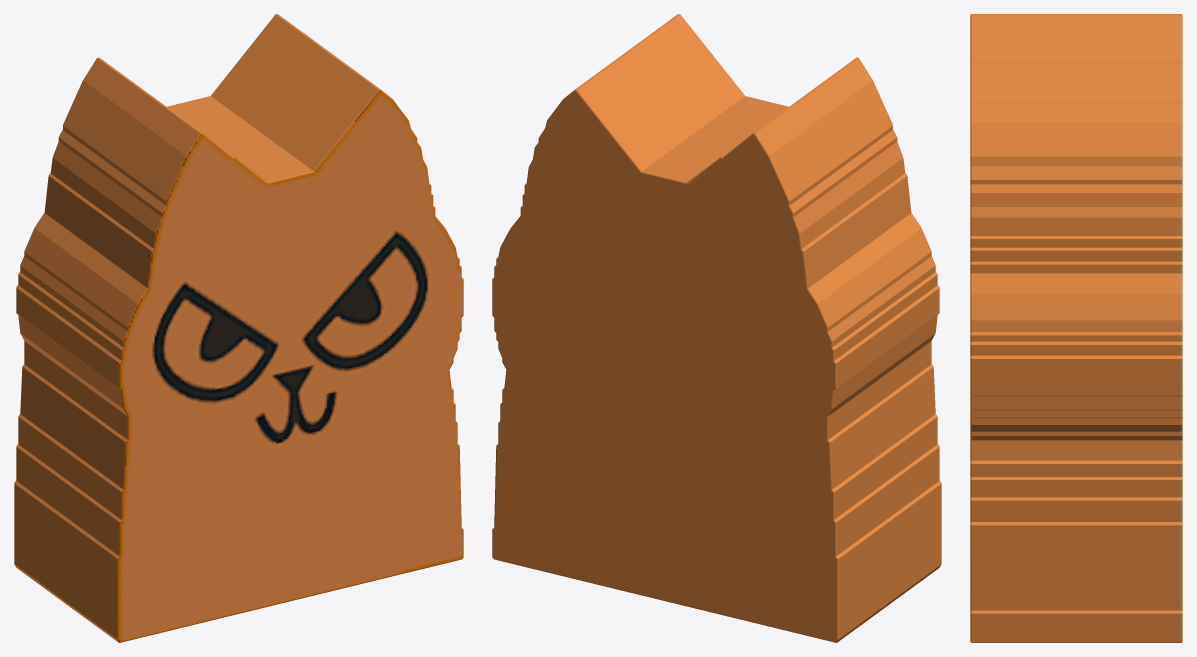
Rendered from marquise-warrior.glb.
3 views of the same model, side by side, from view 1: azimuth 30°, elevation 25°; view 2: azimuth 150°, elevation 25°; view 3: azimuth 270°, elevation 25° (orthographic).
Visible parts, largest first — view 1: marquise-warrior.001; view 2: marquise-warrior.001; view 3: marquise-warrior.001.
Part boxes in pixels (x1,y1,x2,y2): marquise-warrior.001: [14, 14, 463, 642]; marquise-warrior.001: [492, 14, 941, 642]; marquise-warrior.001: [970, 14, 1182, 642].
Size of the model in its own units: 0.5552 by 0.75 by 0.2891.
2 materials, 1 textured.
